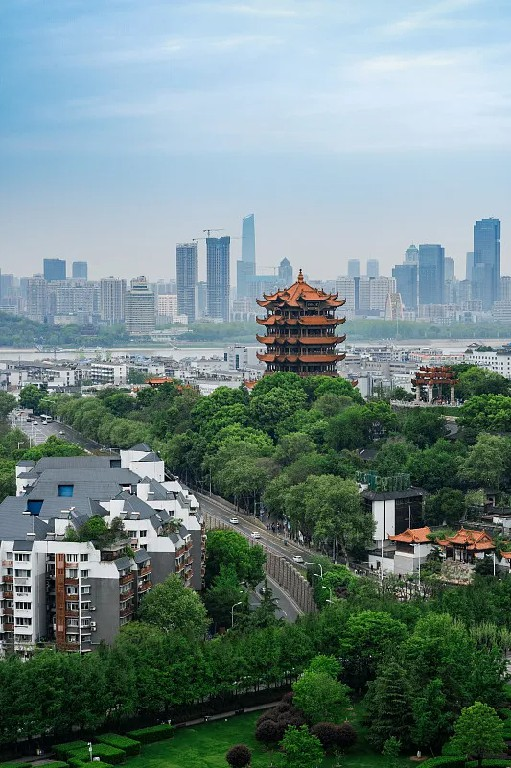Teng: (256, 269, 346, 375)
